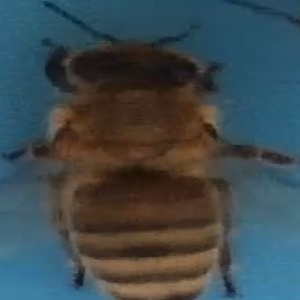bee: (20, 17, 265, 300)
